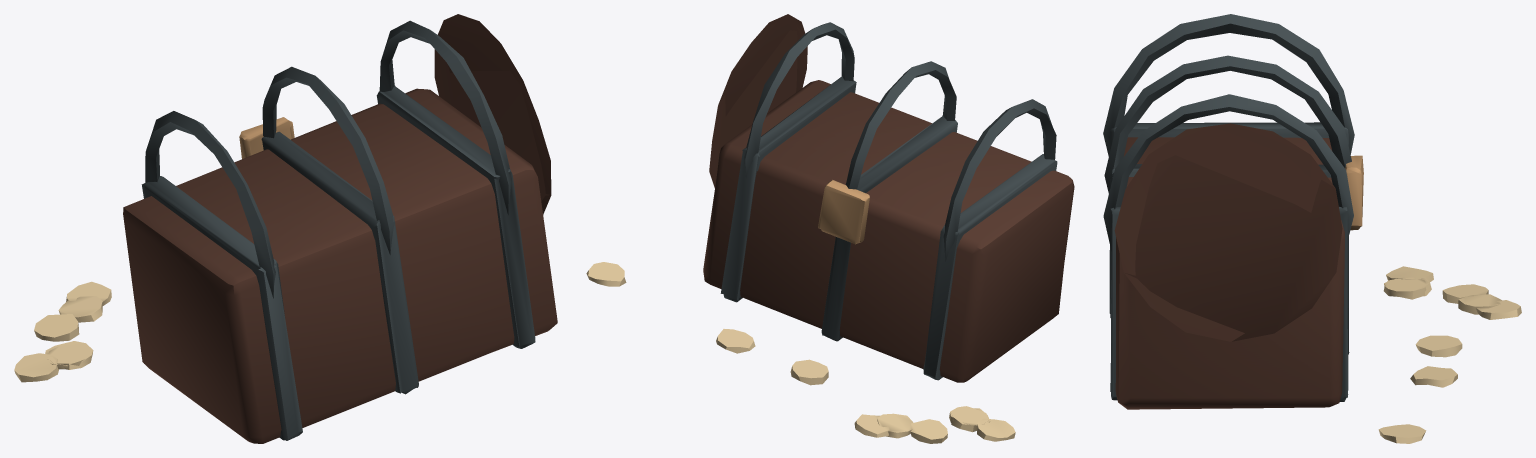
The model's file is find_chest.glb.
3 views of the same model, side by side, from view 1: azimuth 30°, elevation 25°; view 2: azimuth 150°, elevation 25°; view 3: azimuth 270°, elevation 25° (orthographic). The views are drawn at different scales.
Parts seen in each view (by area): view 1: find_chest; view 2: find_chest; view 3: find_chest.
Part boxes in pixels (x1,y1,x2,y2): find_chest: (14, 14, 557, 443); find_chest: (586, 14, 1074, 443); find_chest: (1103, 14, 1521, 443).
Size of the model in its own units: 1.27 by 0.8178 by 0.9164.
